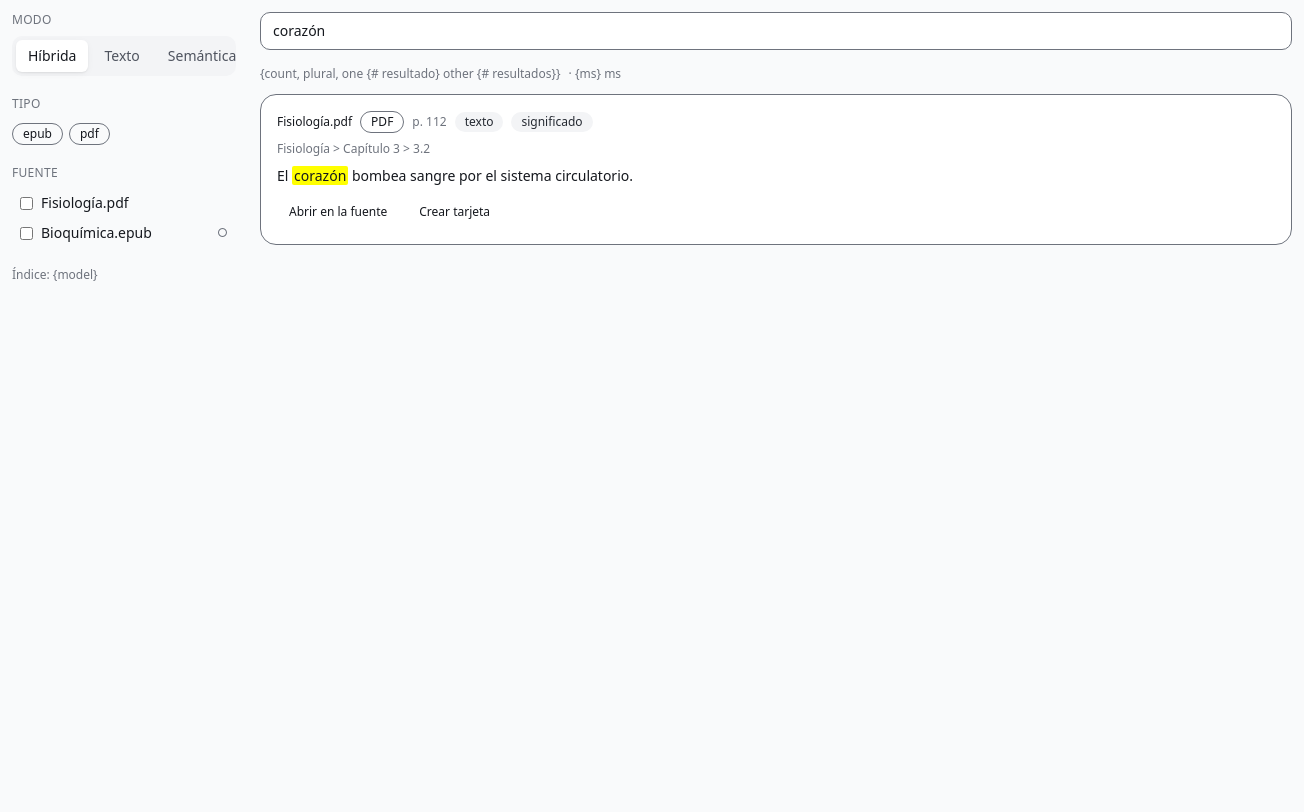
Scenario: the search screen › creates a card from a fragment, and says so
Step 1. Click the button "Crear tarjeta" → [455, 212], box [407,196,502,228]
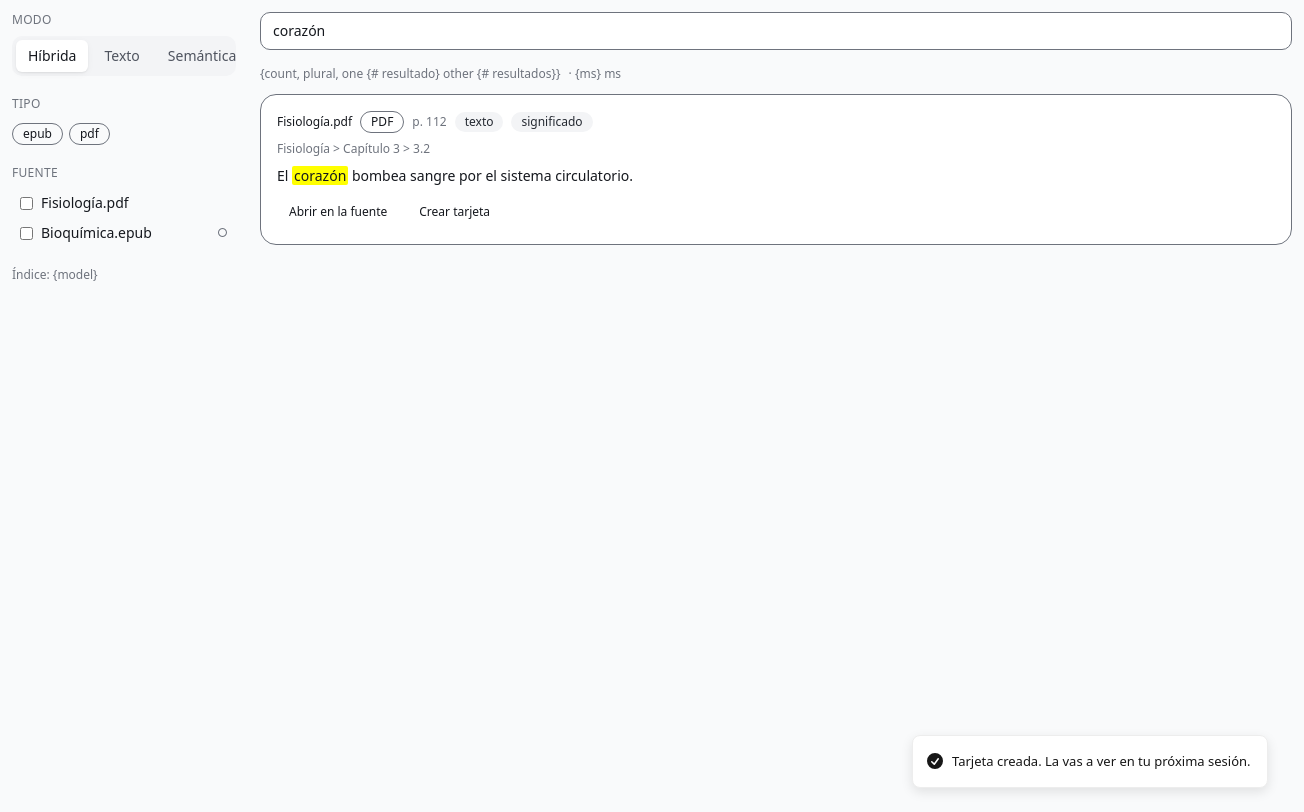
Expected: the text "Tarjeta creada. La vas a ver en tu próxima sesión." is shown, [952,752,1250,771]
